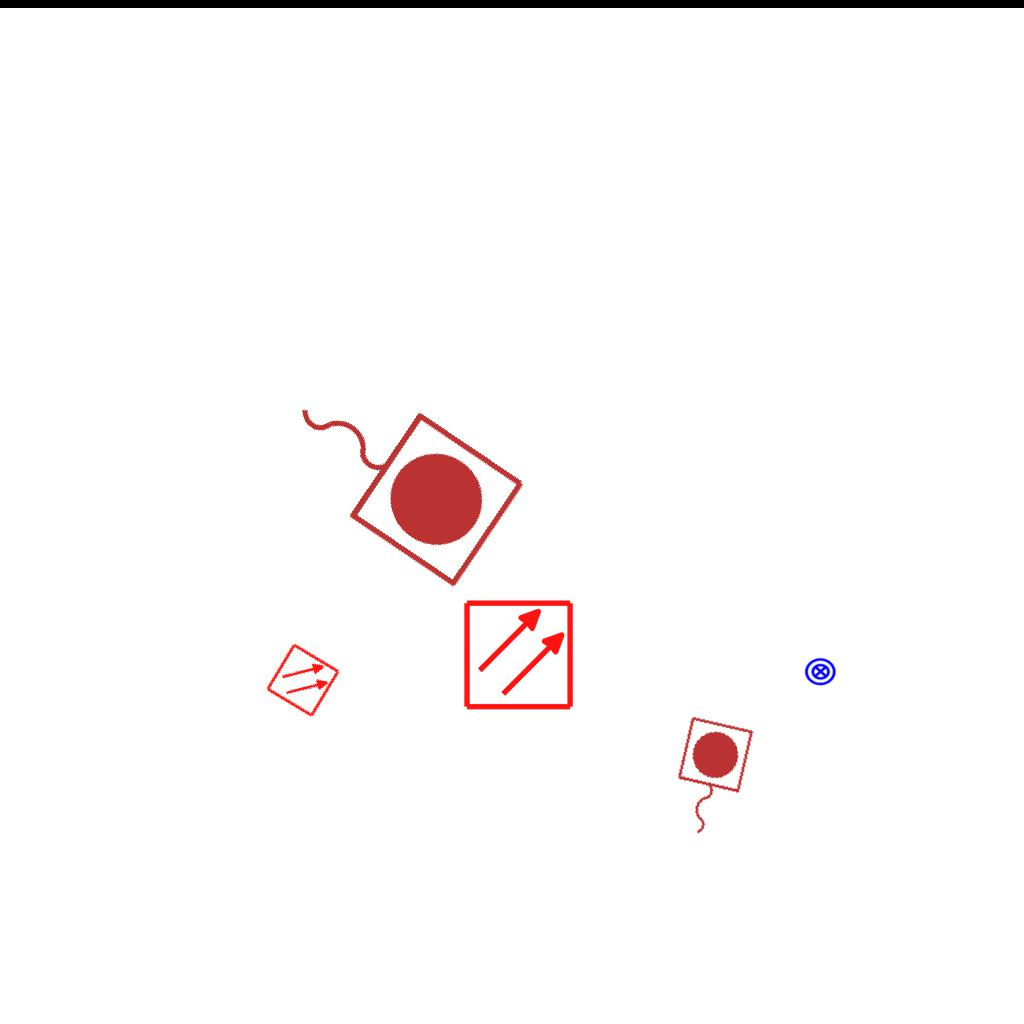RMO_Rauchmelder_optischer: (462, 598, 575, 711), (264, 641, 342, 719)
Taster_beleuchtet: (804, 655, 837, 688)
Zugtaster: (254, 342, 538, 598), (660, 711, 758, 847)
